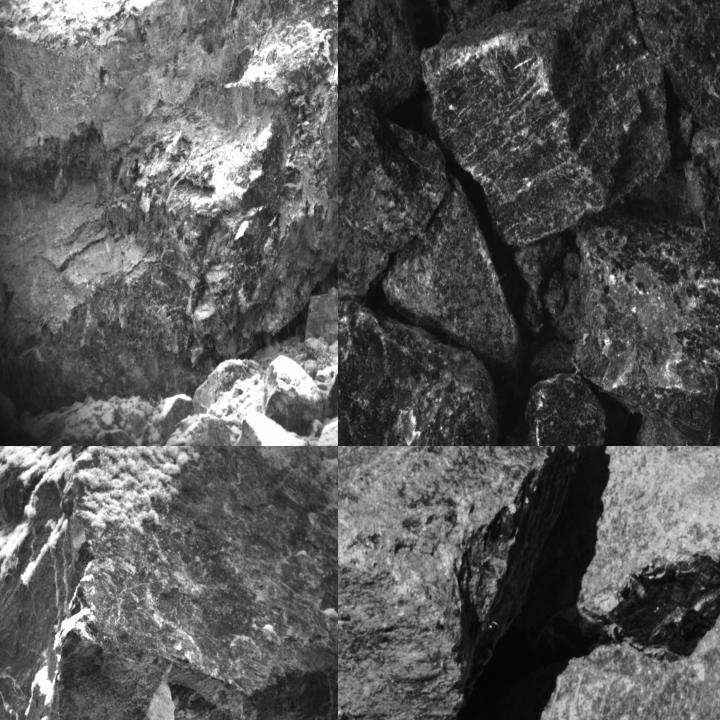stone: (0, 0, 337, 412), (0, 446, 337, 719), (338, 446, 590, 719), (423, 0, 669, 245), (569, 159, 719, 445), (562, 446, 719, 629), (381, 173, 519, 376), (338, 299, 500, 445), (338, 102, 450, 303), (530, 616, 719, 719), (630, 0, 719, 142), (338, 0, 440, 118), (449, 373, 608, 445), (262, 354, 324, 436), (516, 232, 562, 292), (632, 413, 704, 445), (692, 126, 719, 181), (668, 104, 689, 162)
